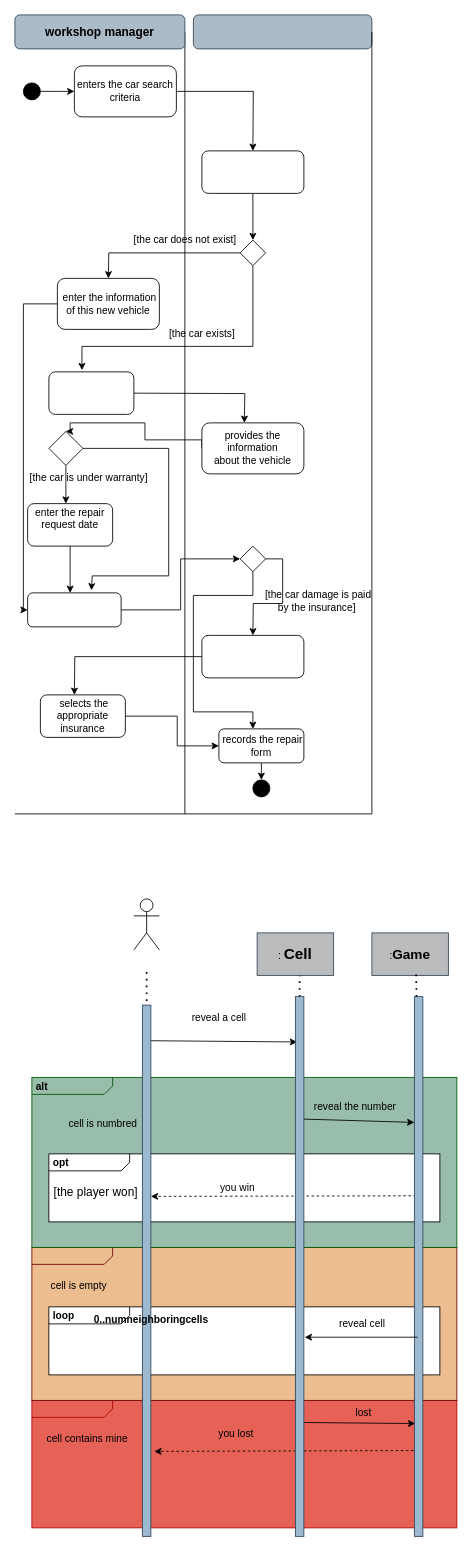
Some shapes in this 472 by 1551 pixel diagram are drawn without their labels. The shapes that lost their labels are listed below. From the top down, each one's centre as x and y in pixels, then its label:
[282,31]: The management software
[252,171]: gives the list of cars
[91,392]: Select the car
[74,609]: enter the reception and return dates
[252,656]: provides a list of insurances
[146,924]: Player
